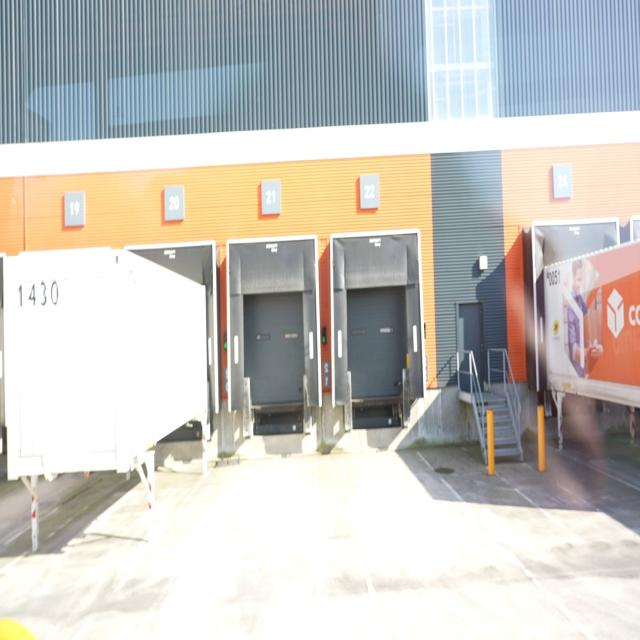Code: (14, 276, 67, 312), (542, 266, 563, 290)
